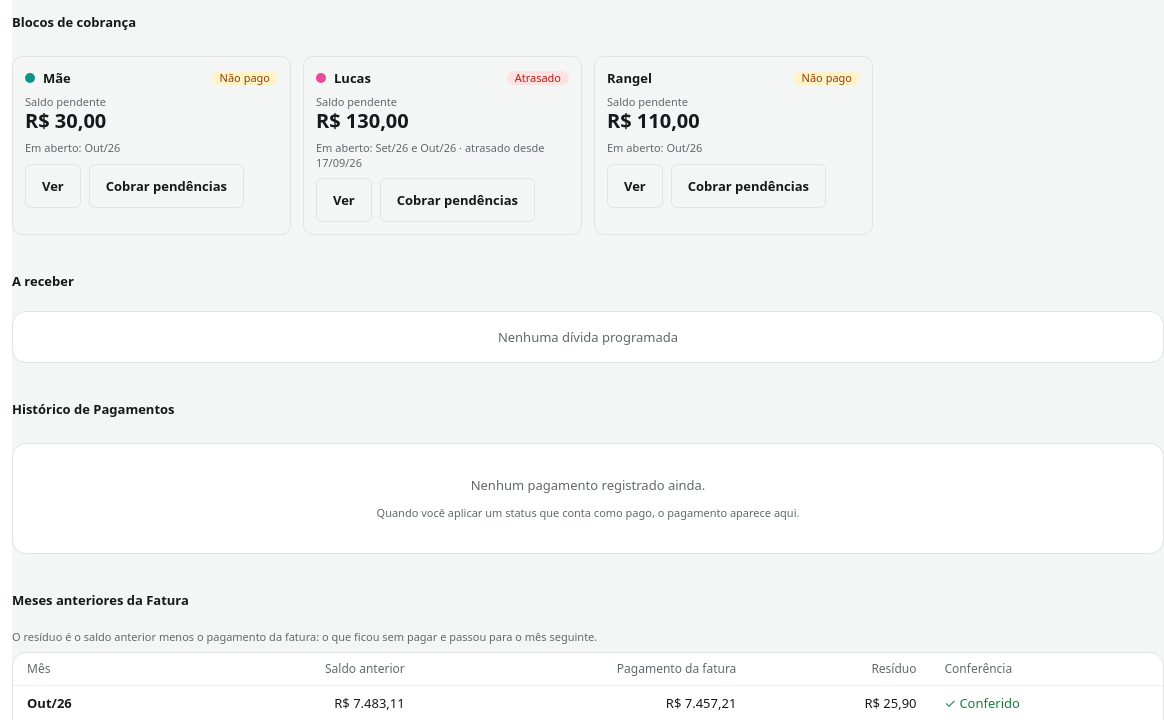
'Ver': a lista dos Lançamentos em aberto › um Pago parcialmente mostra o selo e 'falta R$ X'
Click the button with aria-label "Ver os lançamentos em aberto de Lucas". click: click(344, 200)
box: [316, 178, 372, 222]
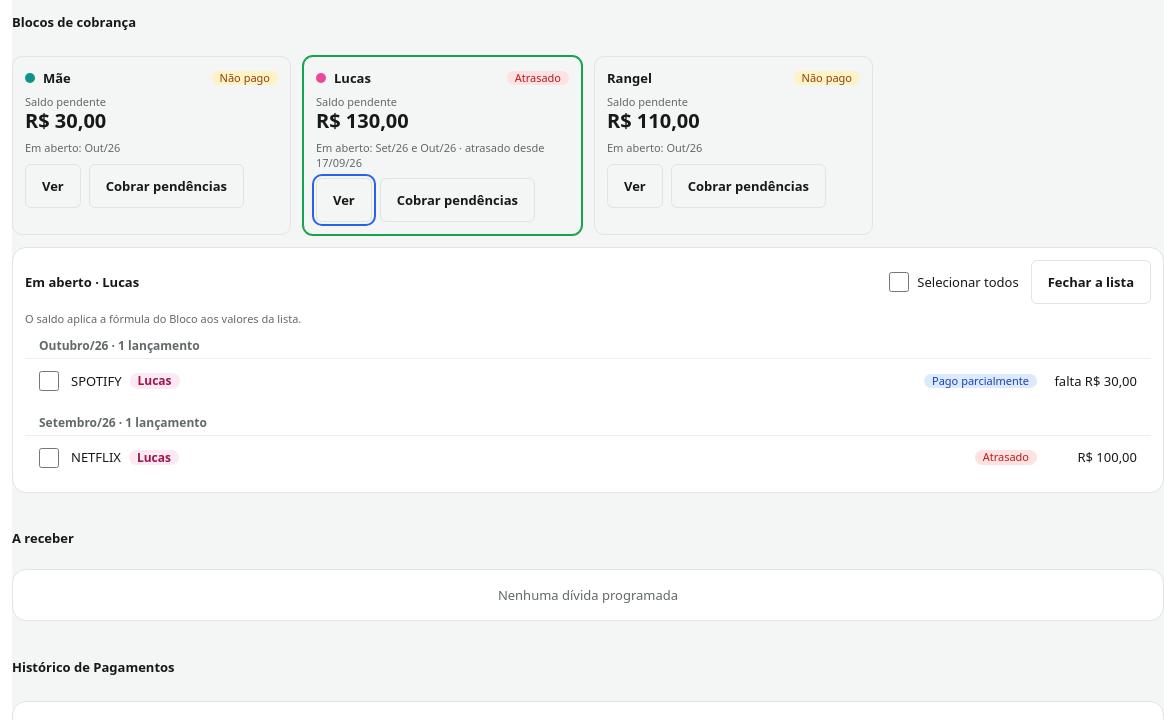
Now the text "Pago parcialmente" is shown, box [924, 374, 1037, 388]
Now the element "Em aberto · Lucas" shows "falta R$ 30,00", box [1054, 372, 1137, 390]
